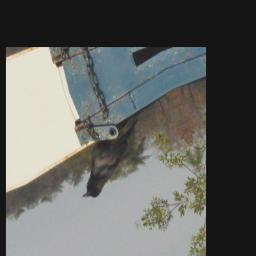Crow: (67, 116, 153, 205)
